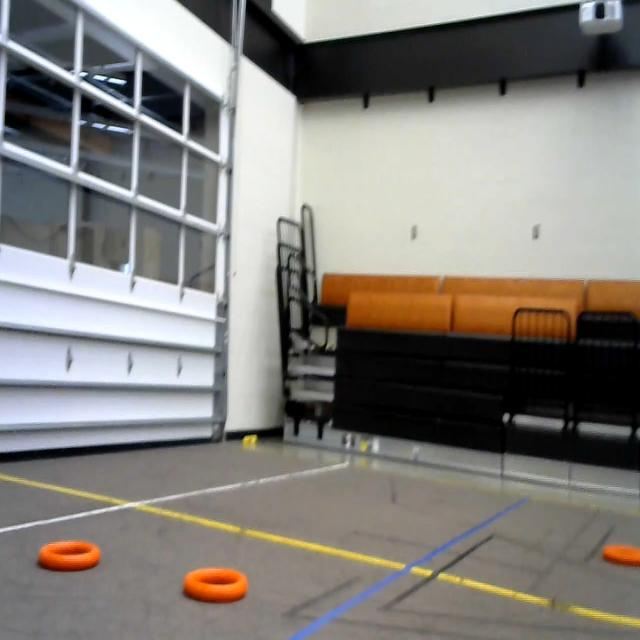note: (177, 555, 262, 616), (38, 528, 108, 583), (595, 530, 640, 580)
